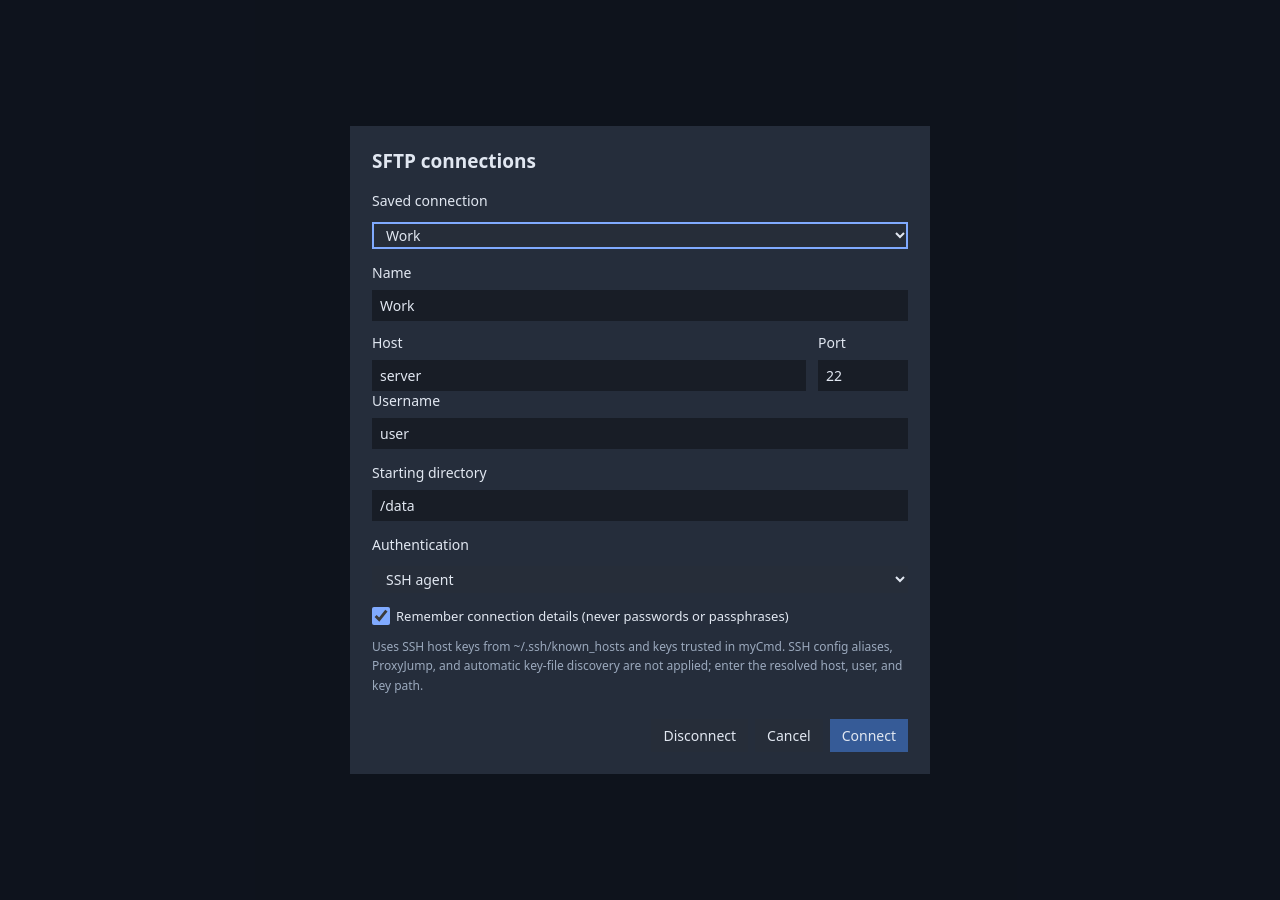
Scenario: reports changed keys or auth failures in place without remembering edited details
The width and height of the screenshot is (1280, 900).
Replace the text in the field labelled "Name" with "Do not save" at coordinates (640, 306), box [372,290,908,321]
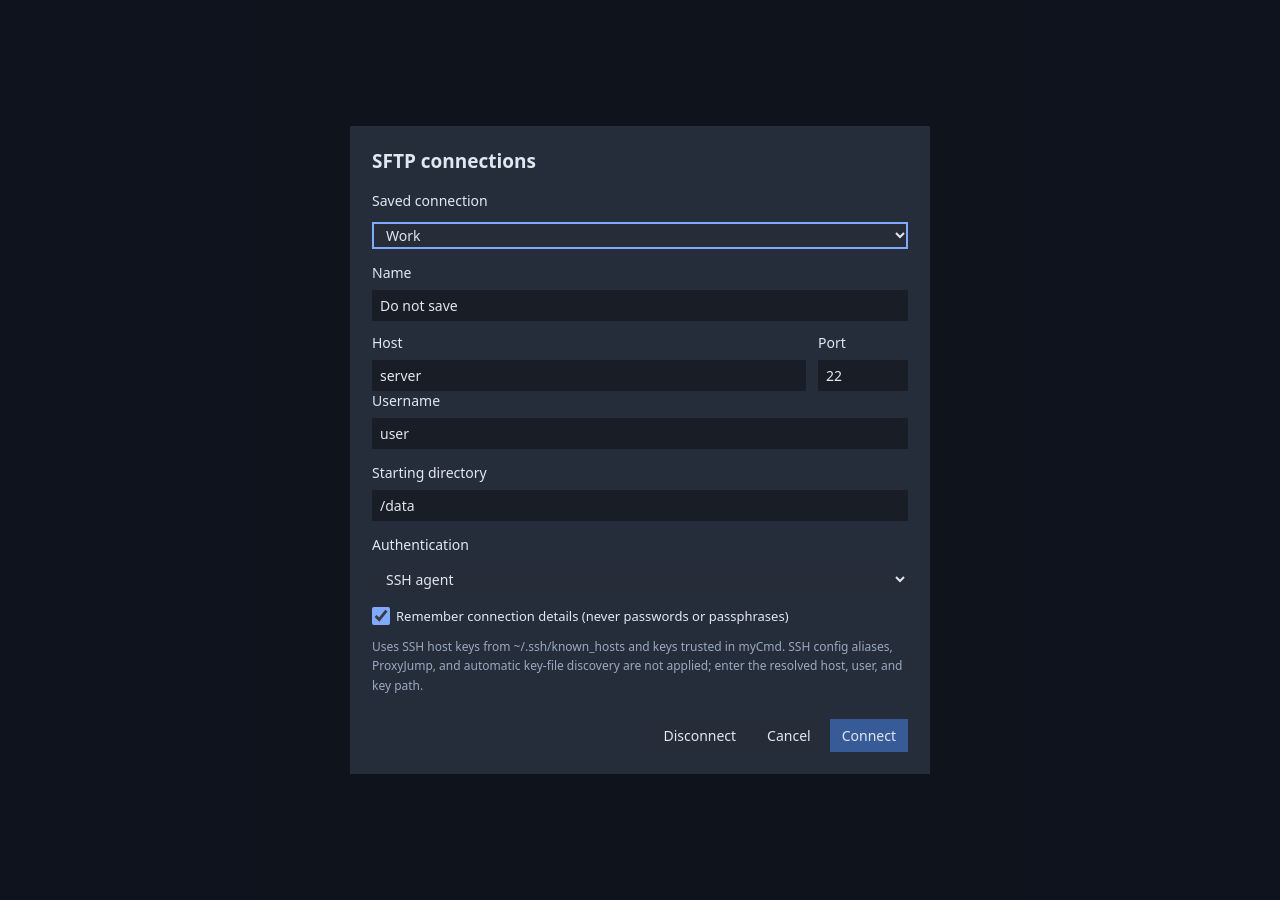
Submit the form, box [372,148,908,752]
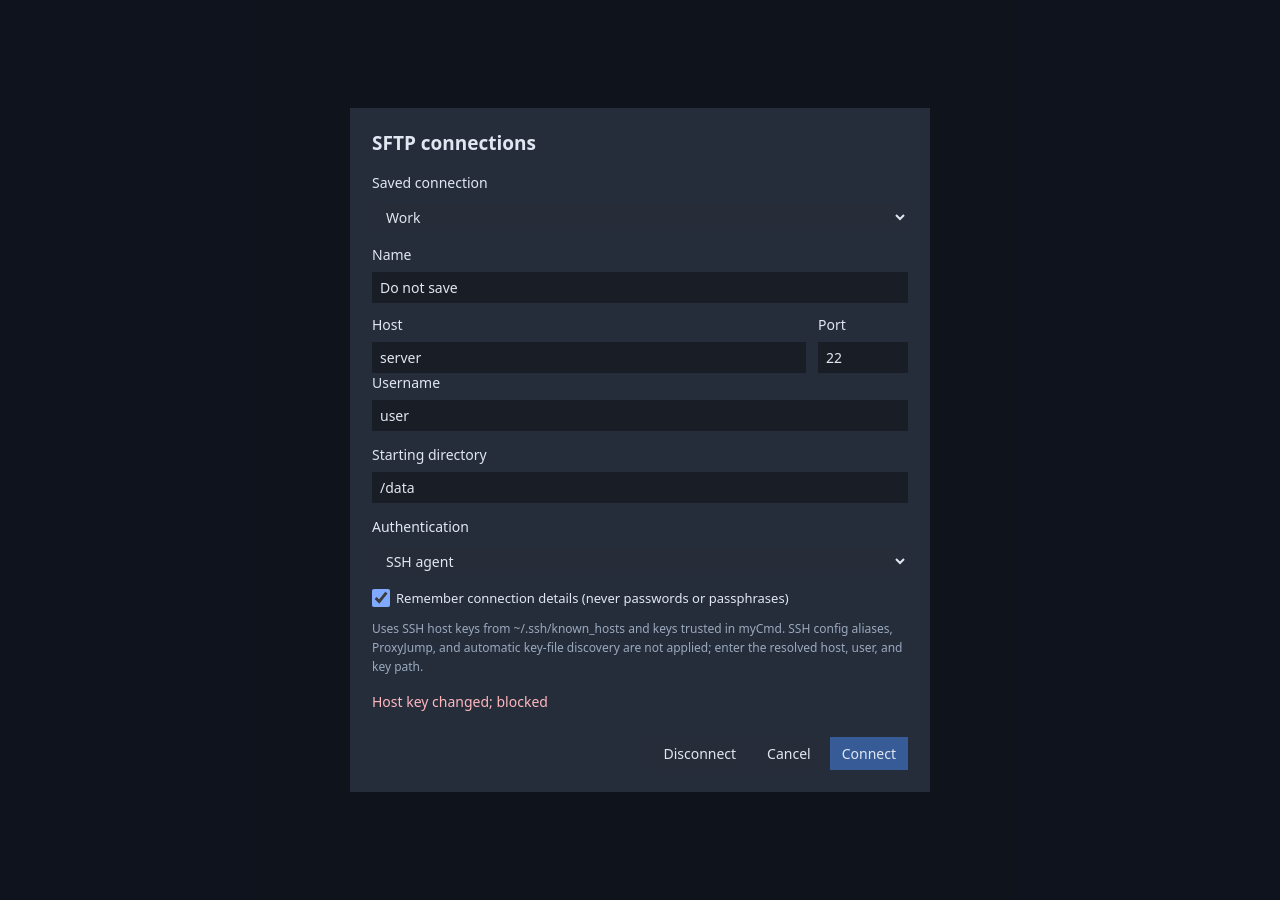
Check: the message "Host key changed; blocked" is shown, box [372,692,548,711]
